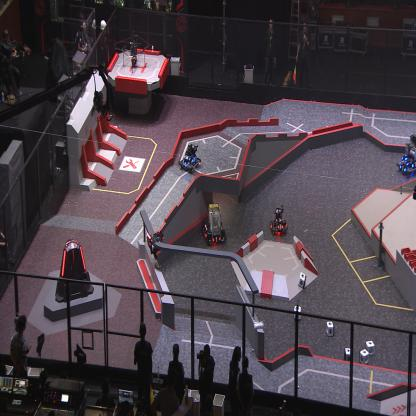car: (200, 200, 227, 247), (395, 130, 416, 176), (178, 142, 201, 173), (268, 204, 289, 236)
